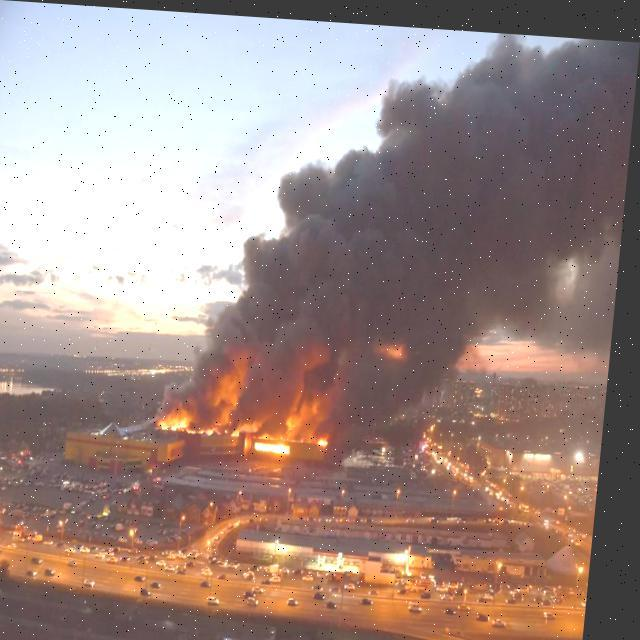Fire: (167, 414, 227, 434), (258, 432, 300, 452), (326, 429, 340, 442)
